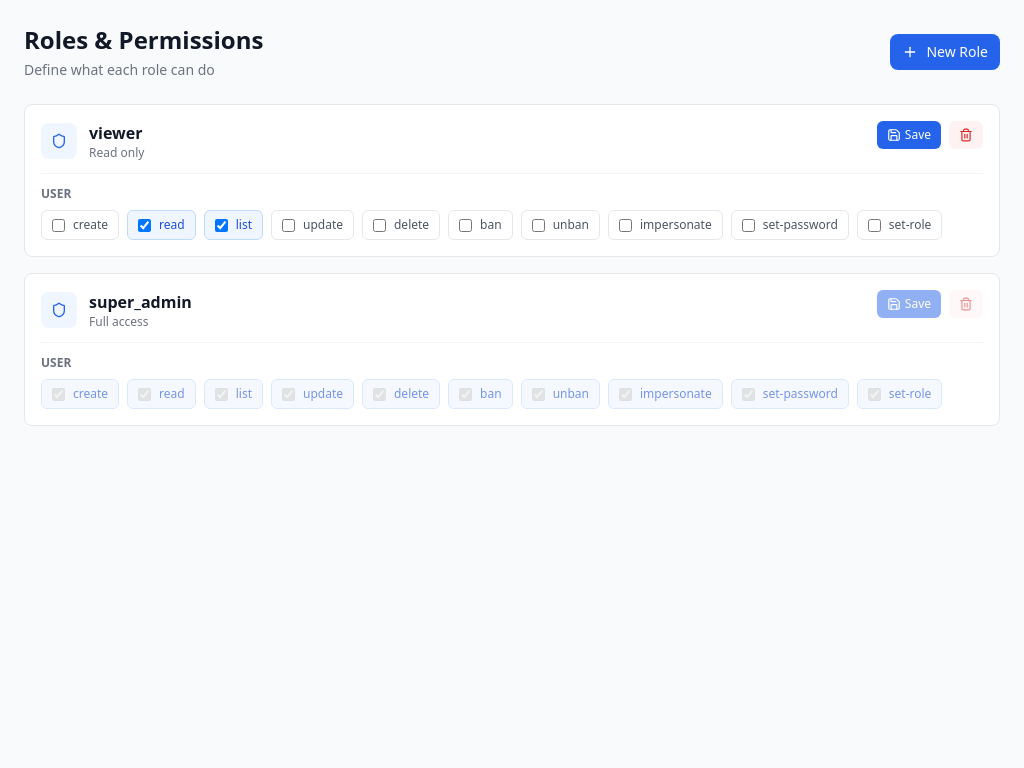
Test: RolesPage create role › clicking New Role shows form
Expected: the text "viewer" is shown, x1=89 y1=121 x2=144 y2=145
Click the button "New Role" at (945, 52), box x1=890 y1=34 x2=1000 y2=70
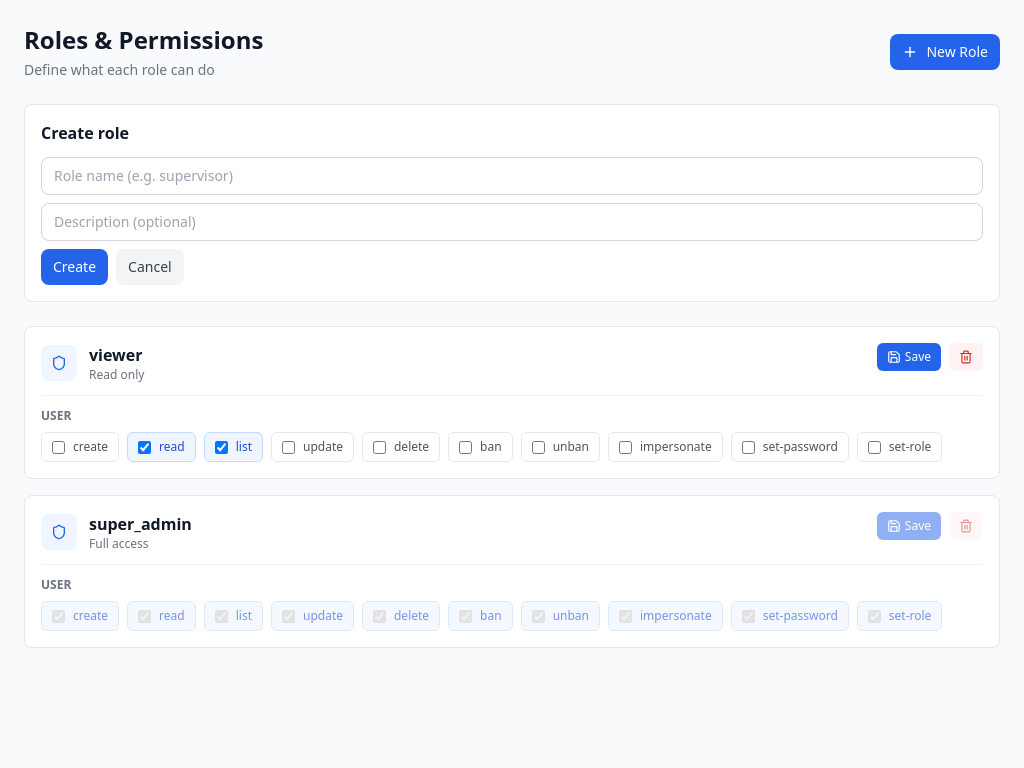
Now the field with placeholder "Role name (e.g. supervisor)" is shown, box x1=41 y1=157 x2=983 y2=195
